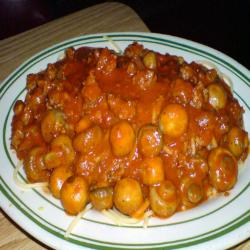bolonese_pasta: (11, 38, 250, 220)
